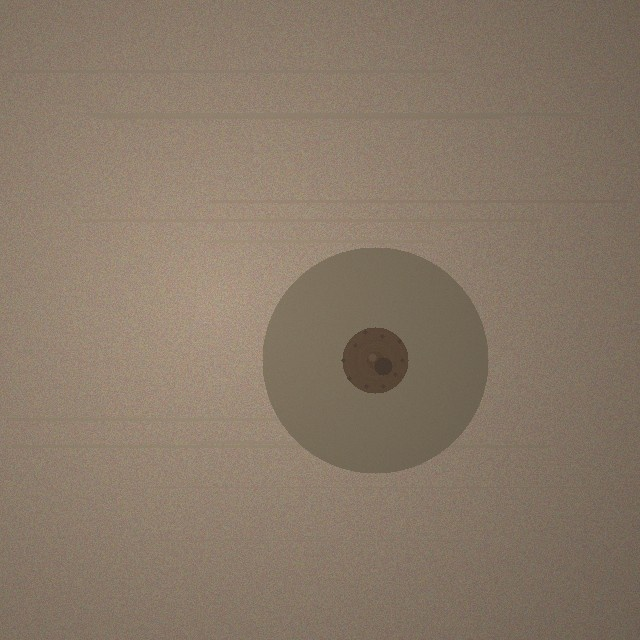cold_weld: (262, 247, 488, 473)
